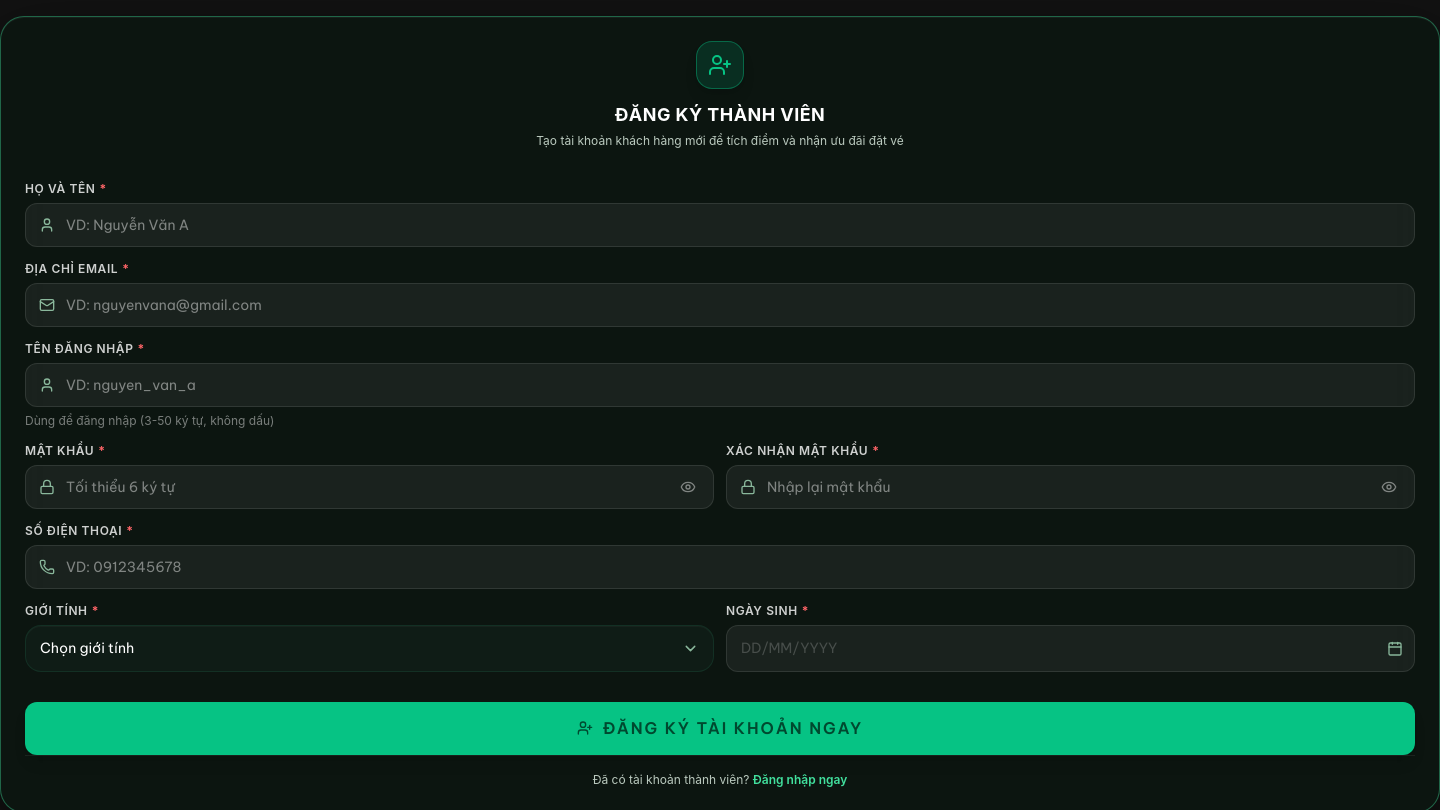
Scenario: RegisterPage › displays error when user is under 14 years old
The width and height of the screenshot is (1440, 810).
Step 1. Type "Nguyễn Văn A" into the field labelled "Họ và tên *" → point(720, 225), box [25,203,1415,247]
Step 2. Type "nguyenvana@gmail.com" into the field labelled "Địa chỉ Email *" → point(720, 305), box [25,283,1415,327]
Step 3. Type "nguyen_van_a" into the field labelled "Tên đăng nhập *" → point(720, 385), box [25,363,1415,407]
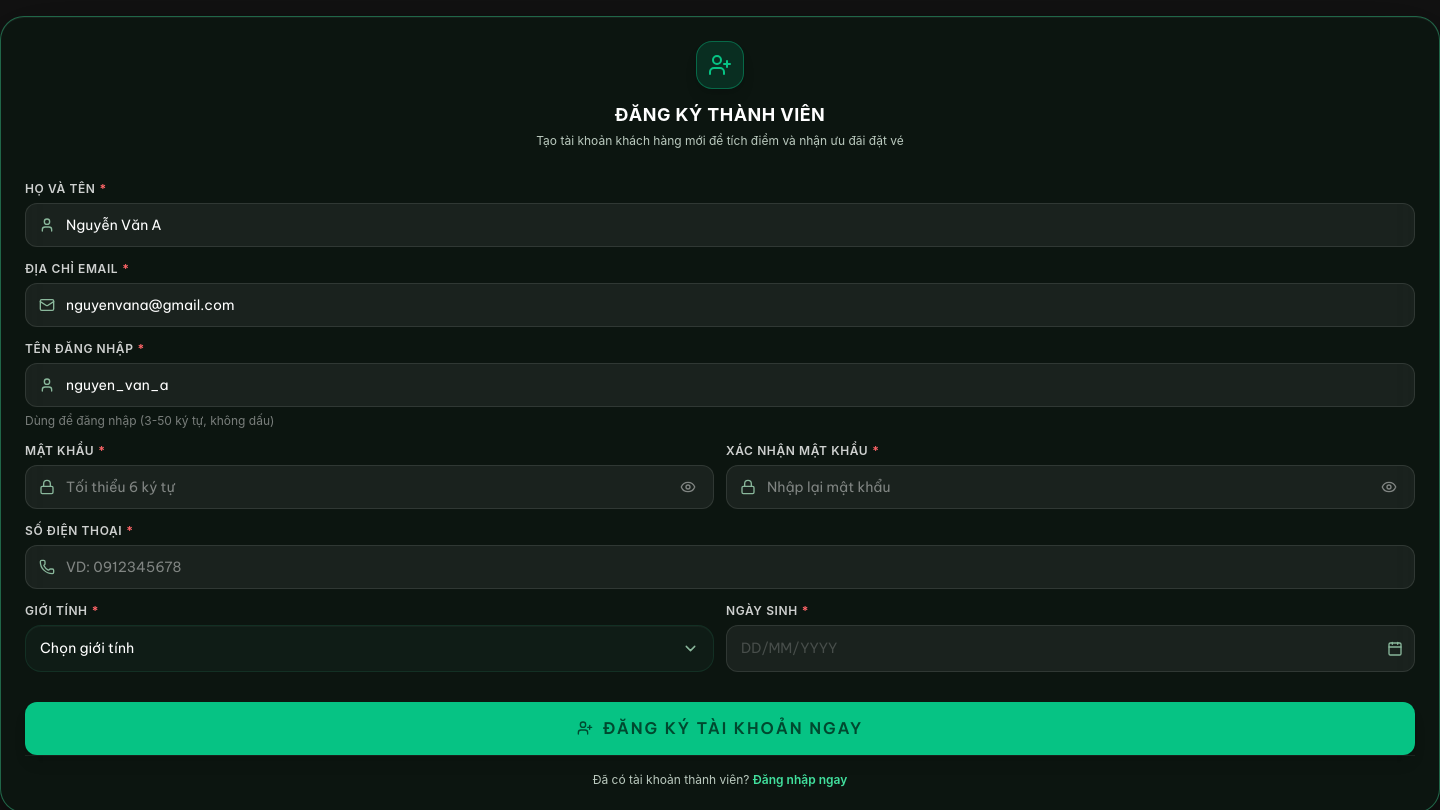
Step 4. Type "123456" into the password field labelled "Mật khẩu *" → point(370, 487), box [25,465,714,509]
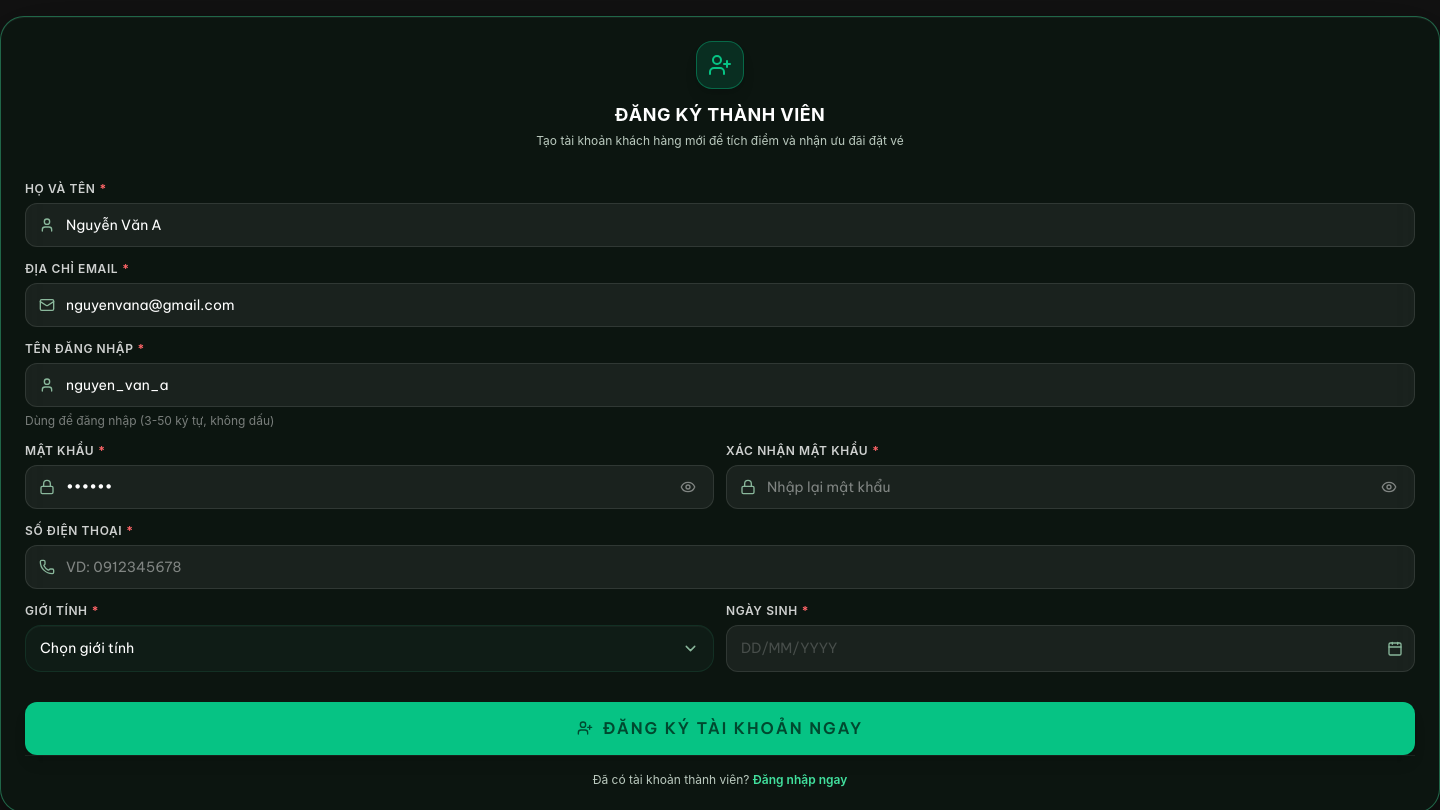
Step 5. Type "123456" into the password field labelled "Xác nhận mật khẩu *" → point(1070, 487), box [726,465,1415,509]
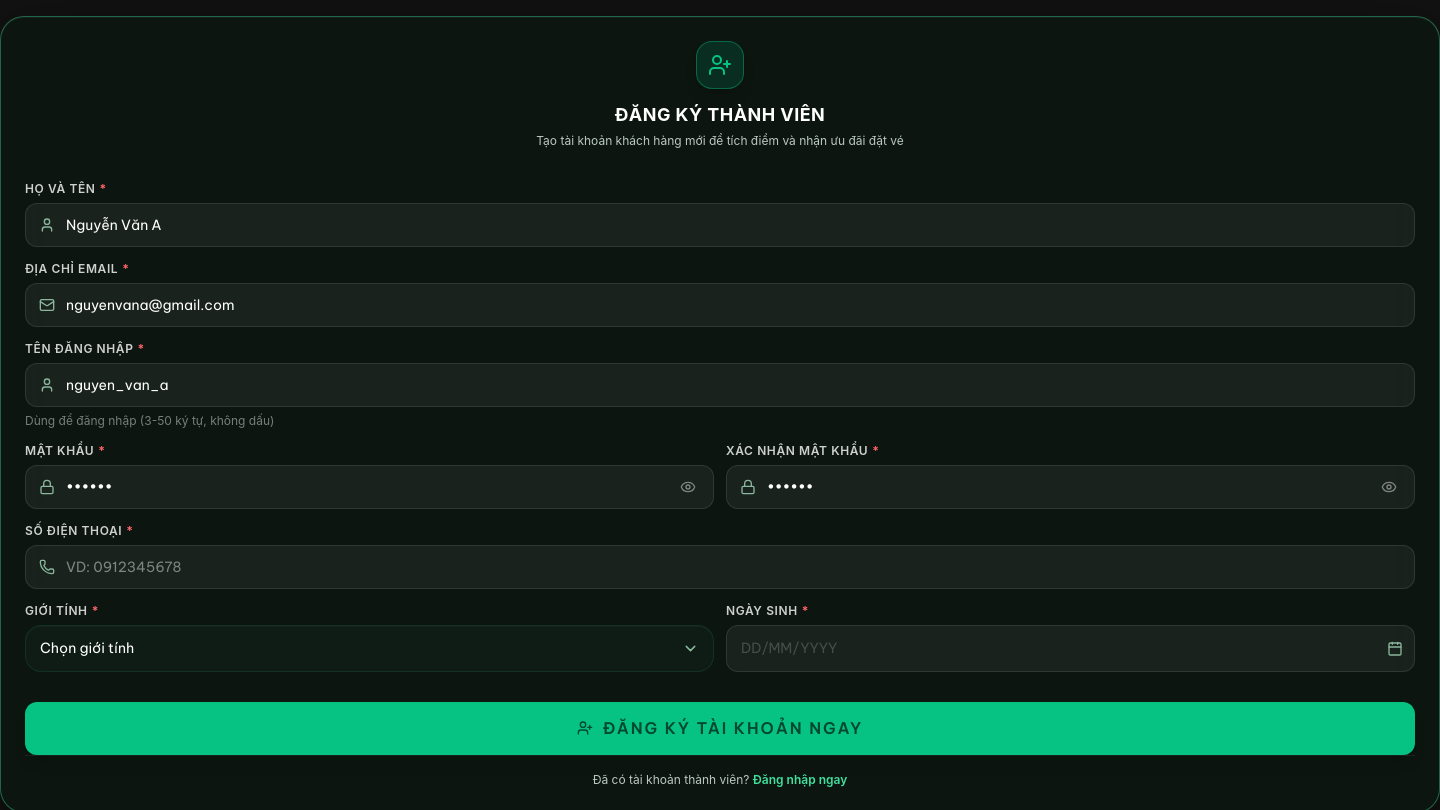
Step 6. Type "0912345678" into the field labelled "Số điện thoại *" → point(720, 567), box [25,545,1415,589]
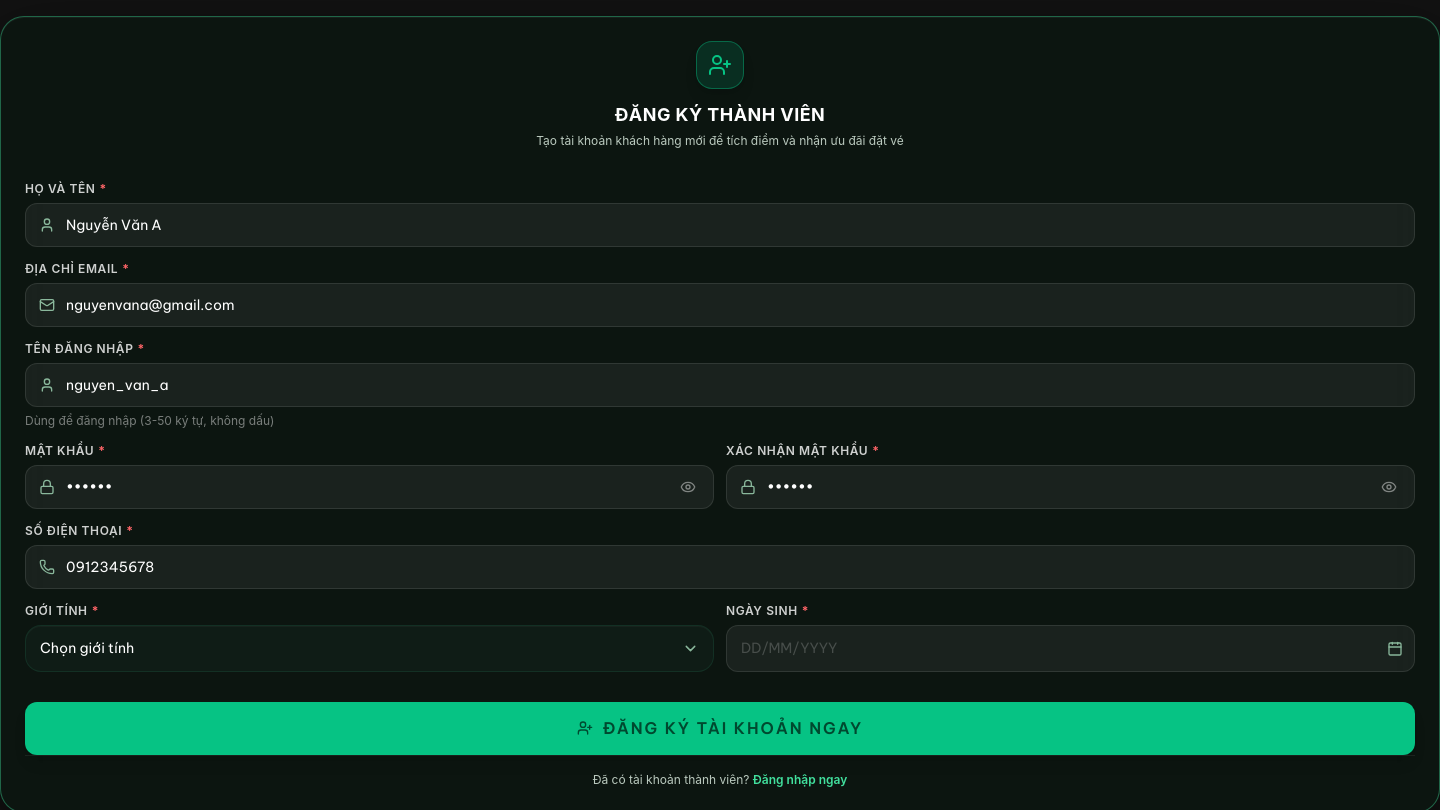
Birthday 5 years ago (under 14)
Step 7. Type "2021-01-01" into the field labelled "Ngày sinh *" → point(1070, 648), box [726,625,1415,672]
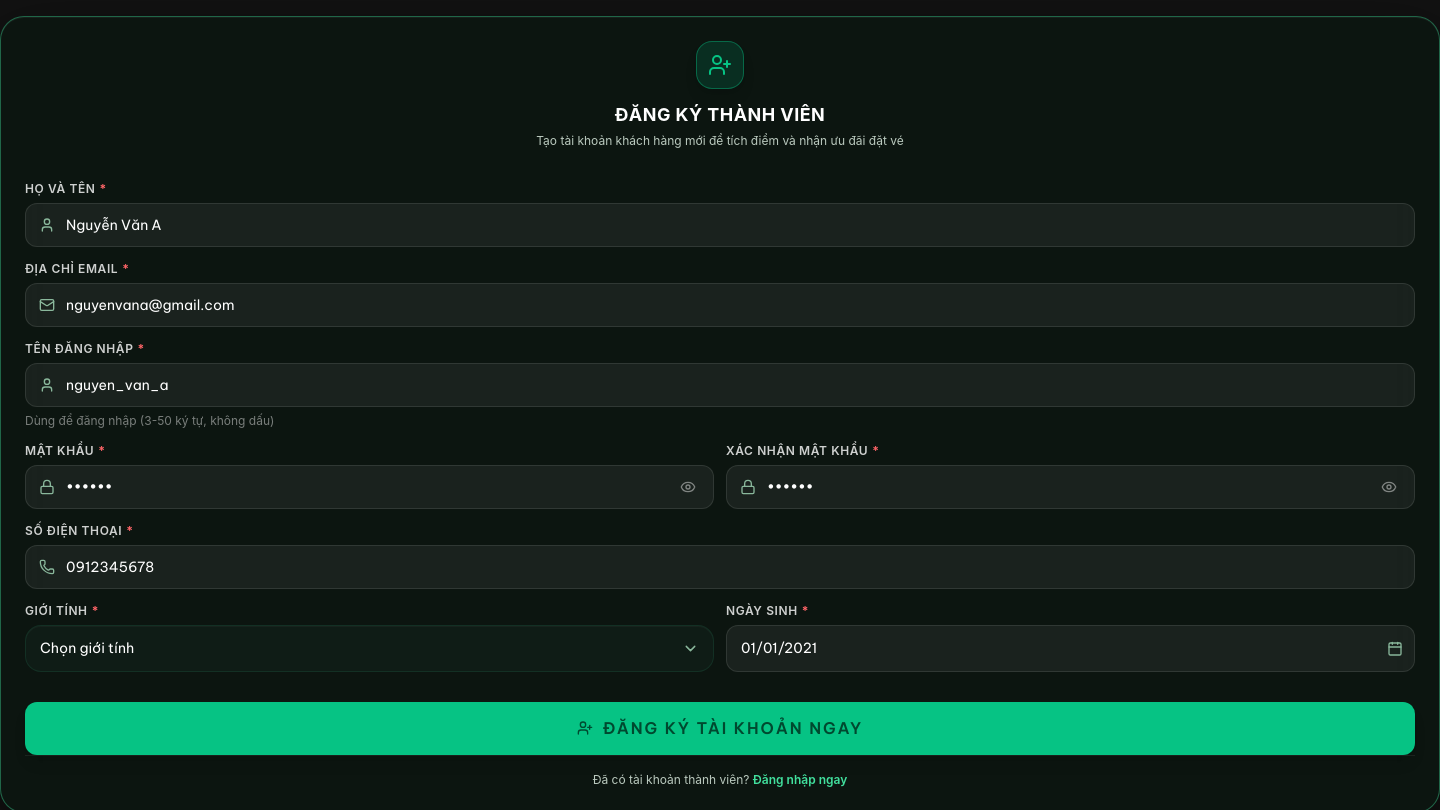
Step 8. Click the button "Đăng ký tài khoản ngay" → point(720, 728), box [25,702,1415,755]
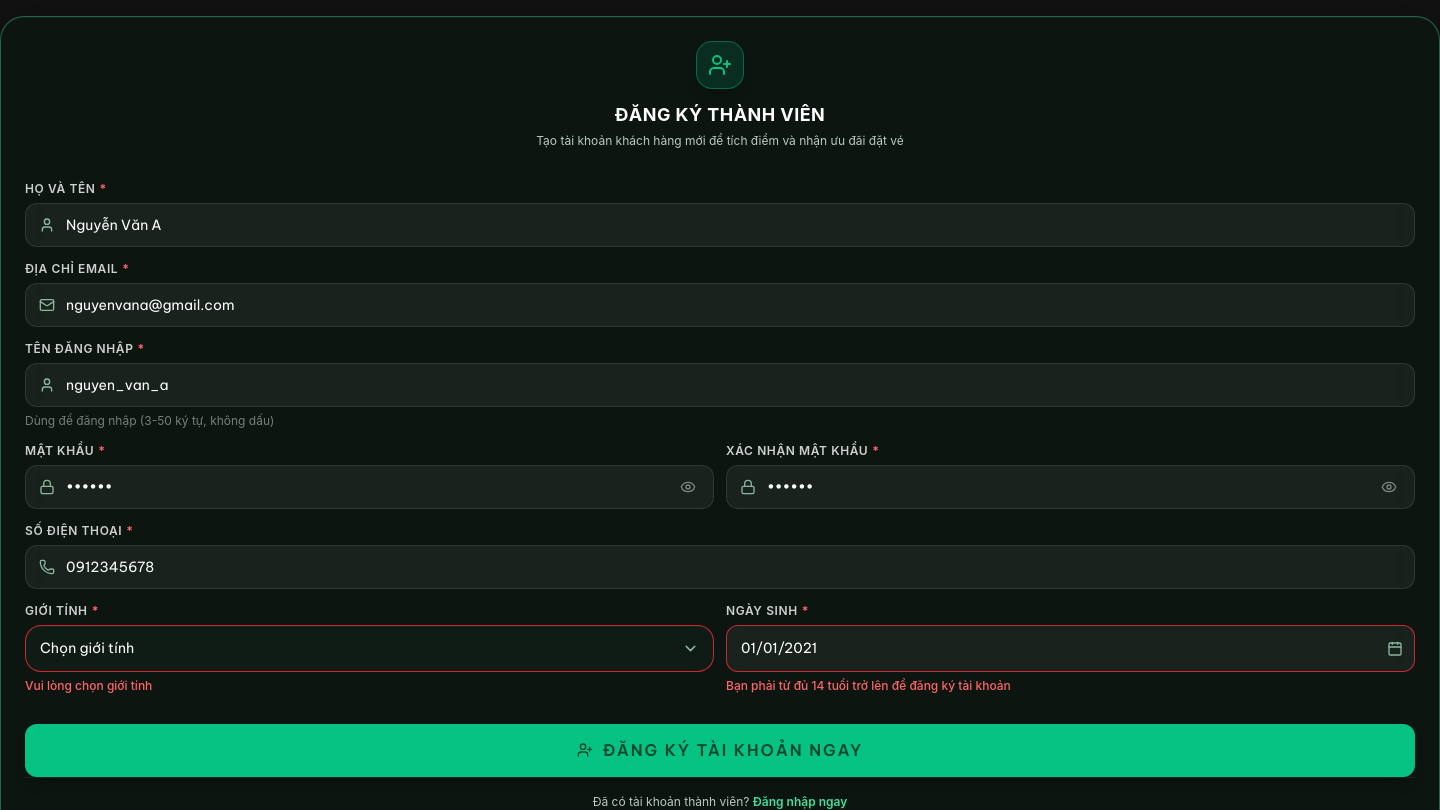
Now the text "Bạn phải từ đủ 14 tuổi trở lên để đăng ký tài khoản" is shown, box [726,678,1011,693]
